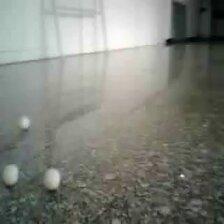tennis: (138, 108, 159, 135), (46, 80, 63, 103), (53, 58, 68, 75)
